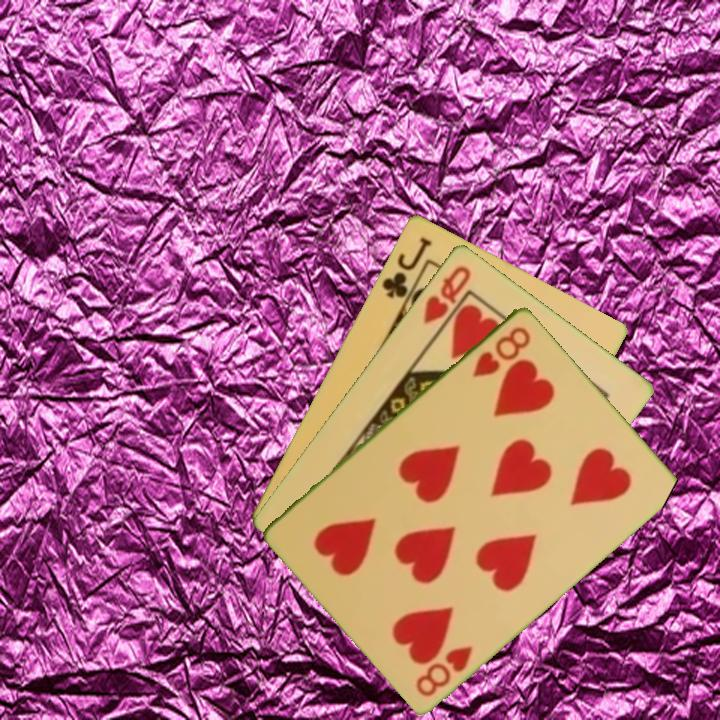8h: (469, 322, 534, 380), (412, 641, 476, 699)
Jc: (378, 232, 435, 301)
Qh: (419, 261, 474, 326)
